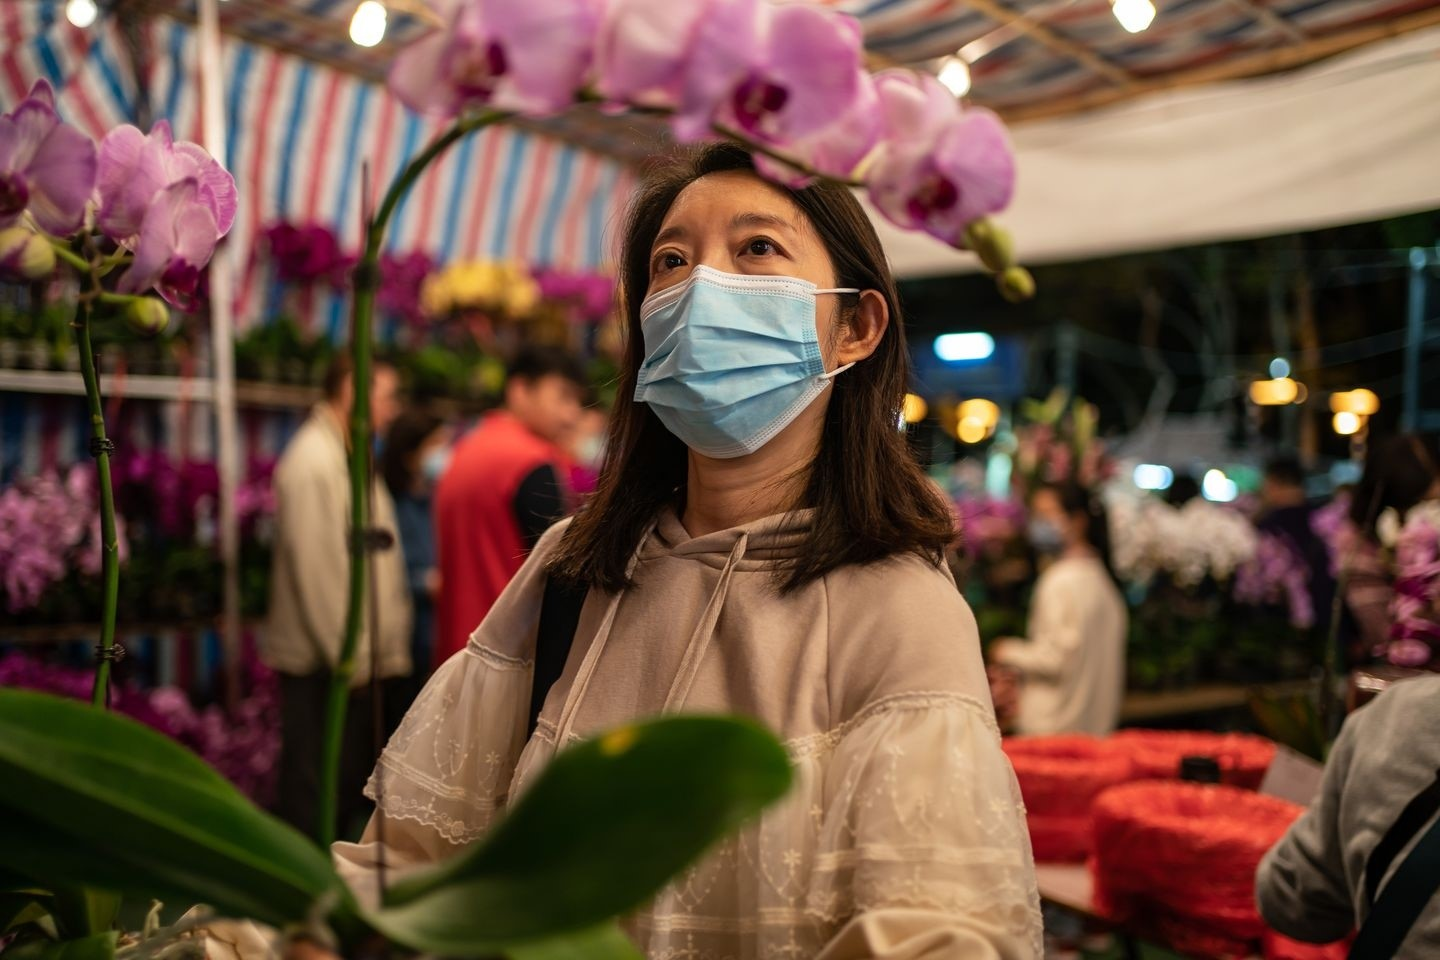face_with_mask: (639, 151, 892, 469)
